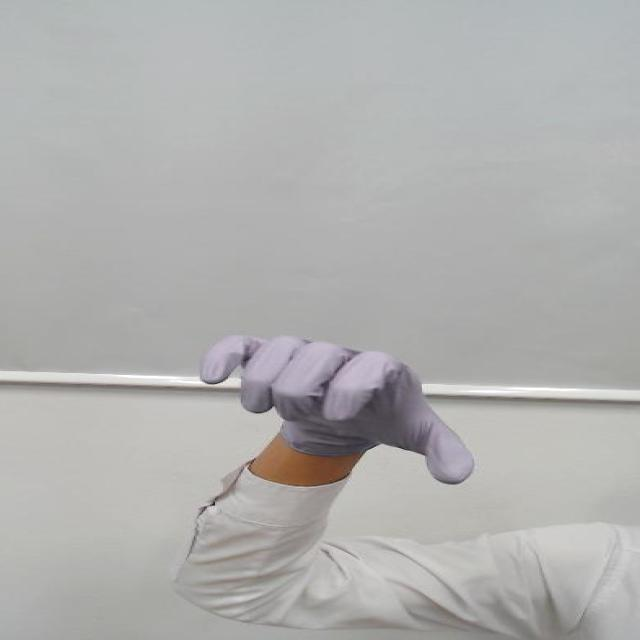glove: (162, 328, 525, 495)
